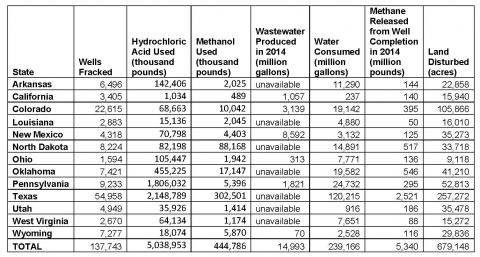fracking table: (6, 4, 476, 253)
